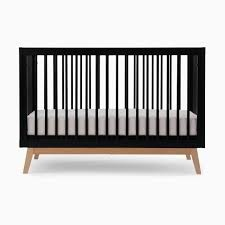crib: (19, 47, 205, 174)
